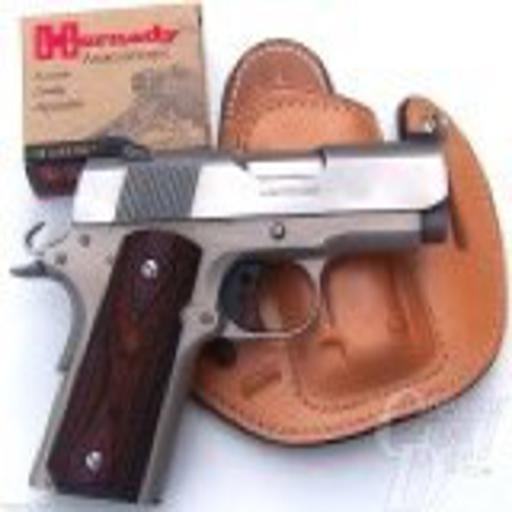Handgun: (11, 131, 459, 502)
